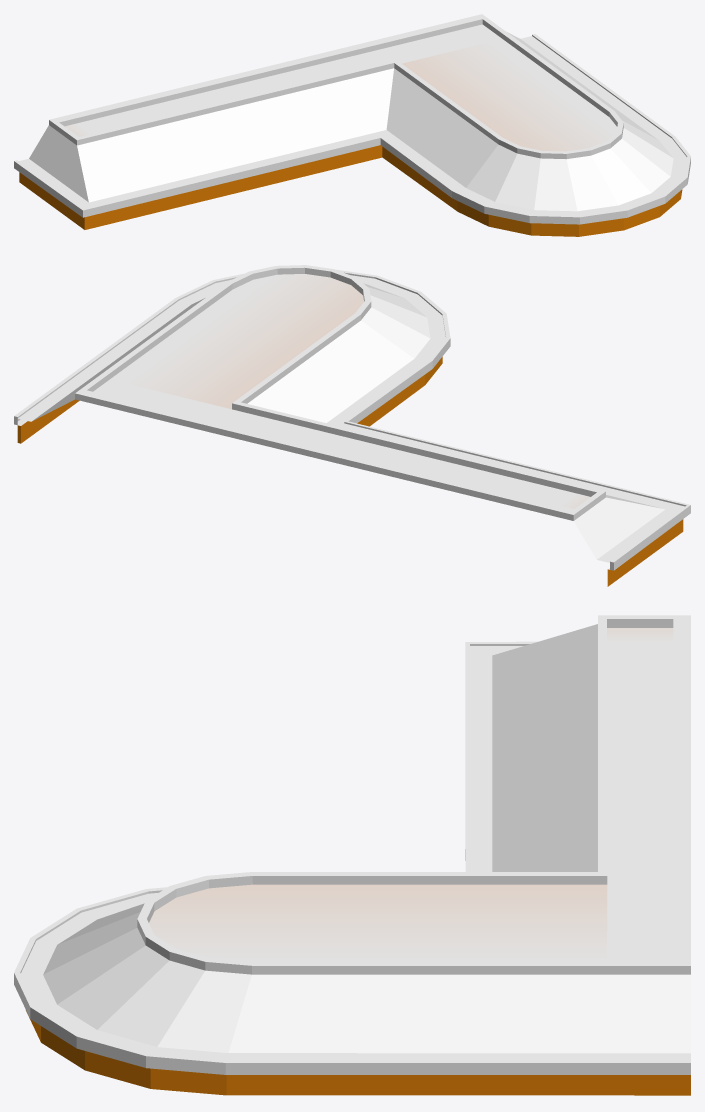
The model's file is 청주공항_ver0913-2 1.fbx.
3 views of the same model, one above another, from view 1: azimuth 30°, elevation 25°; view 2: azimuth 150°, elevation 25°; view 3: azimuth 270°, elevation 25° (orthographic). The views are drawn at different scales.
Parts seen in each view (by area): view 1: Cylinder.004; view 2: Cylinder.004; view 3: Cylinder.004.
Part boxes in pixels (bbox=[...]): Cylinder.004: bbox=[14, 14, 690, 236]; Cylinder.004: bbox=[14, 265, 690, 586]; Cylinder.004: bbox=[14, 615, 690, 1095].
Bounding box in the file's own units: 883 × 89.41 × 599.
